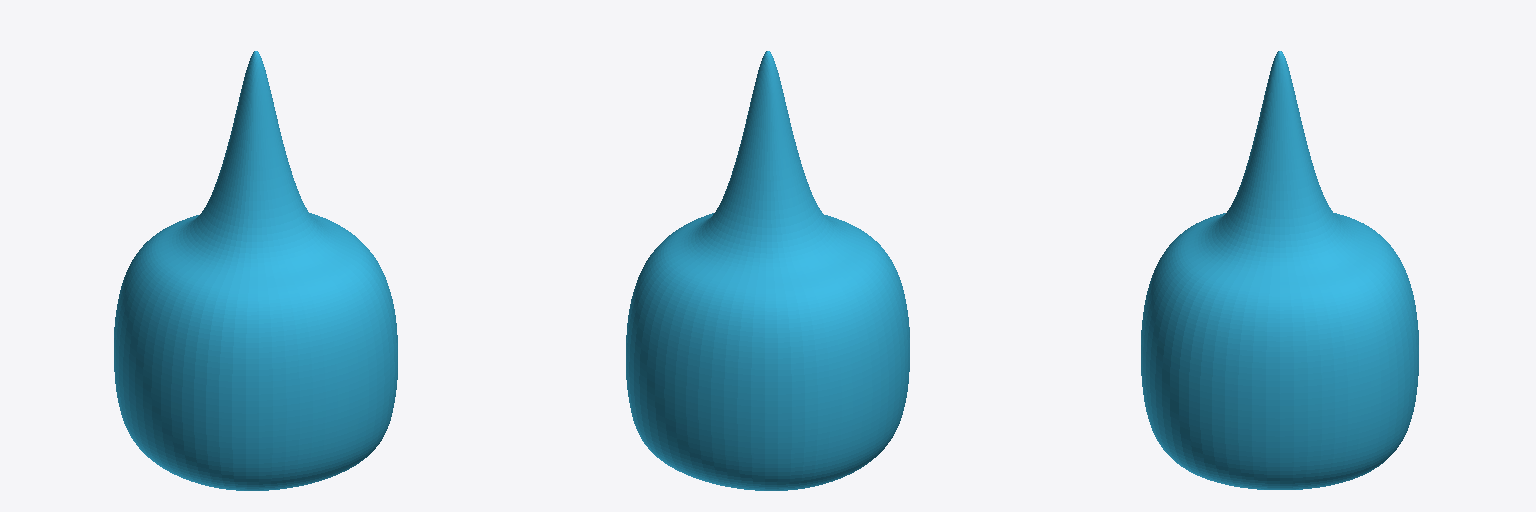
Rendered from togeboy.obj.
The picture shows the model from 3 angles: view 1: azimuth 30°, elevation 25°; view 2: azimuth 150°, elevation 25°; view 3: azimuth 270°, elevation 25°; orthographic projection.
Visible parts, largest first — view 1: suraimu02; view 2: suraimu02; view 3: suraimu02.
Boxes of the visible parts, x1,y1,x2,y2 form: suraimu02: [114, 51, 397, 490]; suraimu02: [626, 51, 909, 490]; suraimu02: [1141, 51, 1418, 489].
Size of the model in its own units: 182 by 295 by 182.